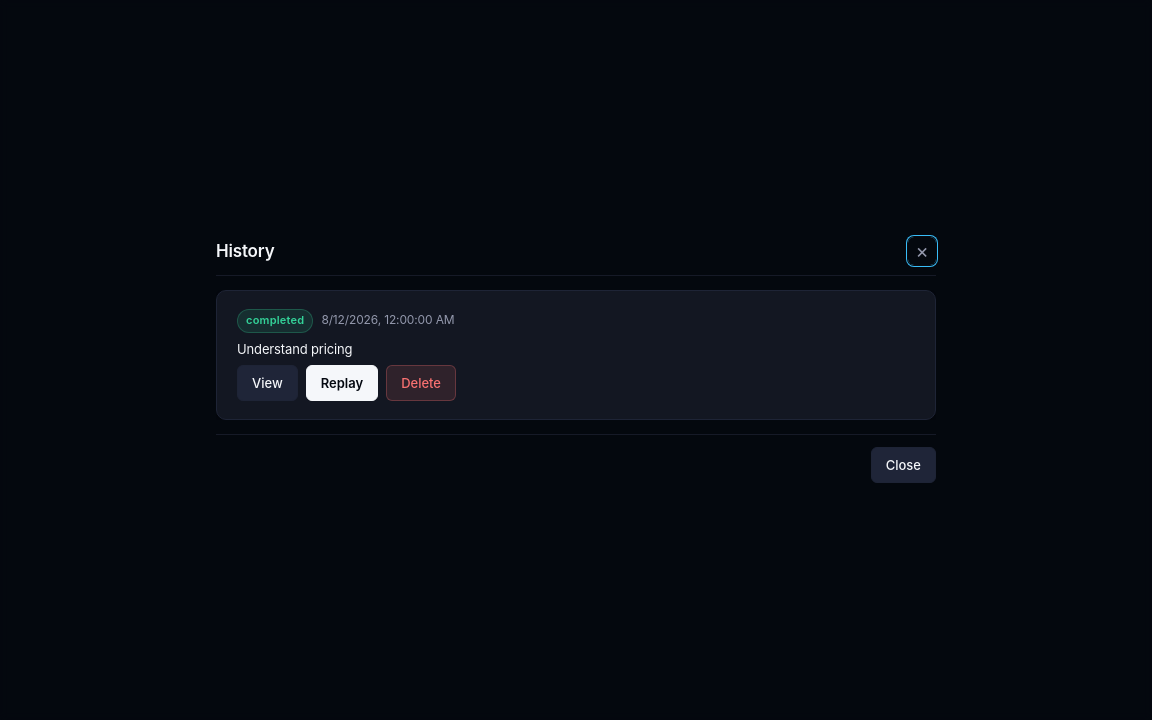
HistoryPanel › deletes a run after confirmation and reloads the list
The width and height of the screenshot is (1152, 720).
Expected: the text "Understand pricing" is shown, left=237, top=341, right=352, bottom=357
# The per-card delete button opens an in-row confirmation.
What coordinates should you click on to do the following:
click the button "Delete"
I would click on:
 (421, 383)
Its box is left=386, top=365, right=456, bottom=401.
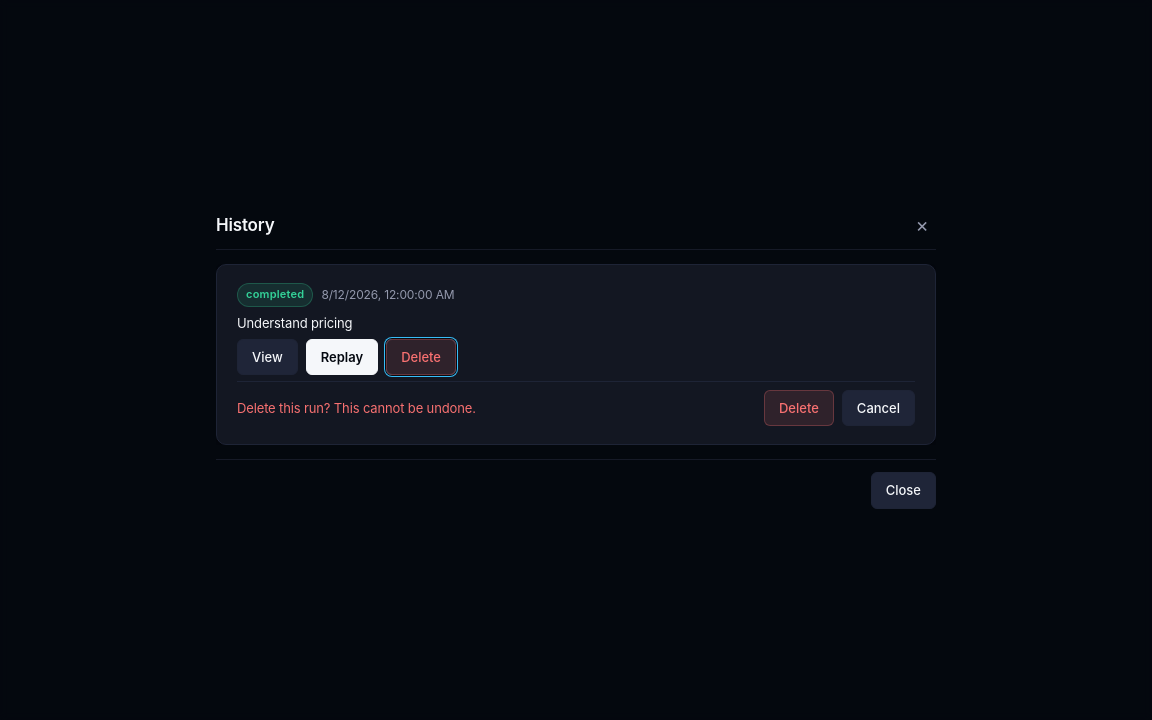
Now the text "Delete this run? This cannot be undone." is shown, box left=237, top=398, right=476, bottom=418
# The confirmation's own delete button is the second "Delete" on the page.
What coordinates should you click on to do the following:
click the button "Delete" in the row of "Delete this run? This cannot be undone."
I would click on:
 (799, 408)
Its box is left=764, top=390, right=834, bottom=426.
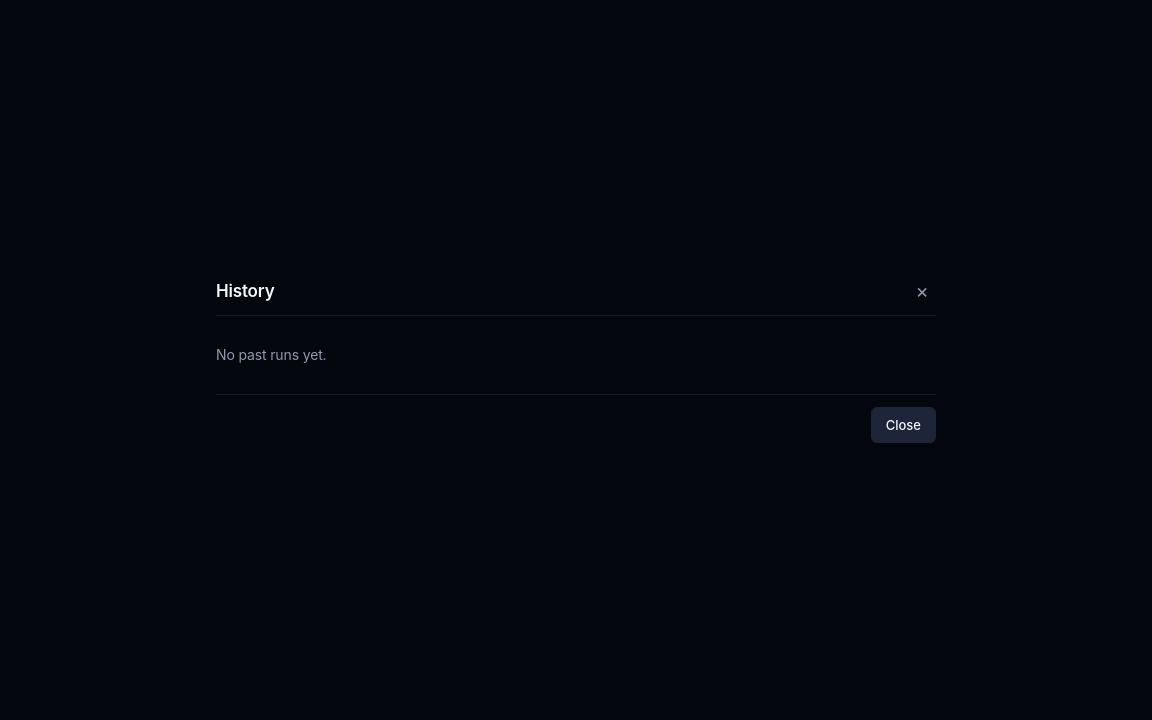
Now the text "Understand pricing" is gone
